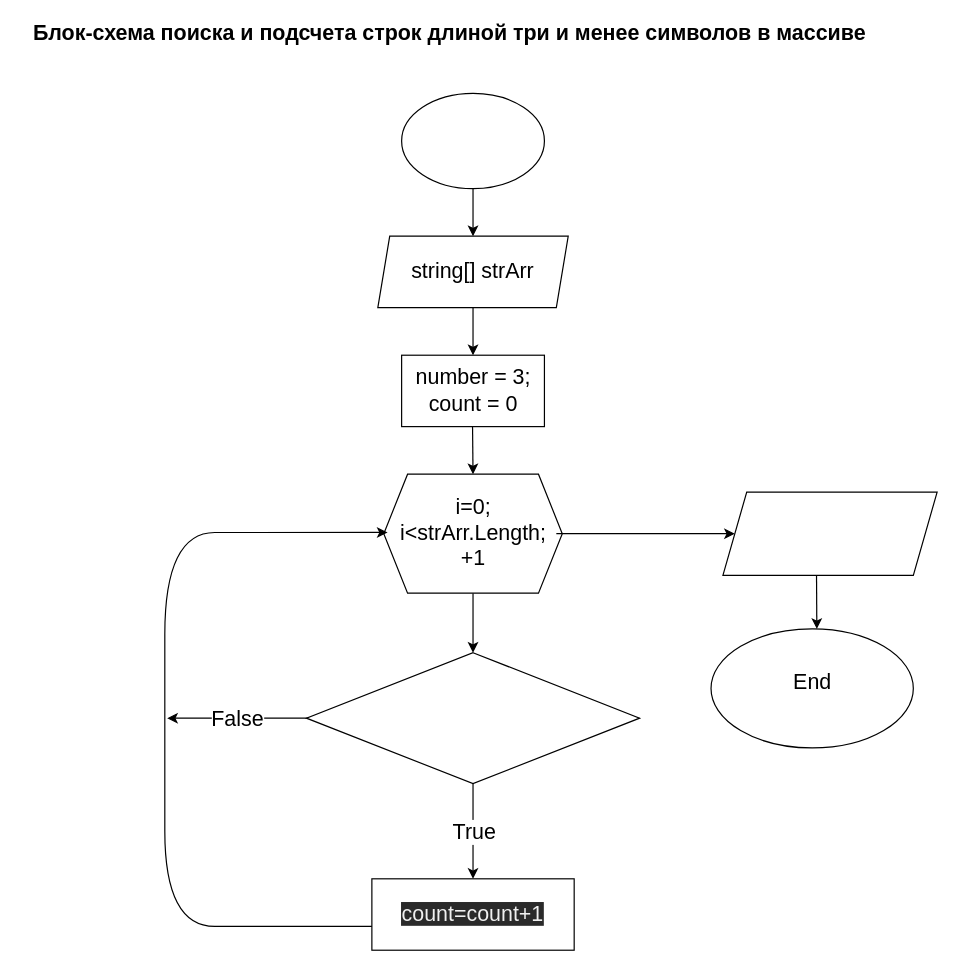
The diagram is 958 pixels wide and 971 high, and some of its shapes have lost their labels. Each missing label, with the centre of its shape:
"print count" belongs at point 829,533.
"Start" belongs at point 472,140.
"strArr[i].Length<=number?" belongs at point 472,718.
